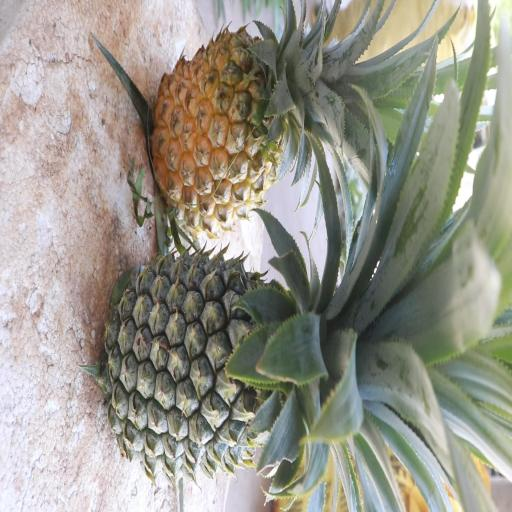Pineapple - v8 v1: (157, 13, 406, 225)
